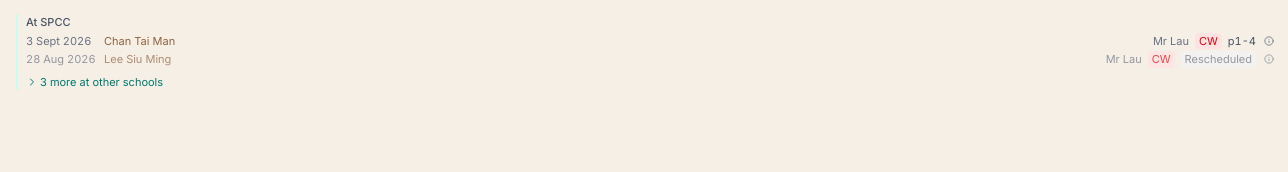
Test: the list of lessons behind a file's usage count › opens the other schools on request, leaving the school out
Click the button "3 more at other schools" at (95, 82), box [26,74,163,90]
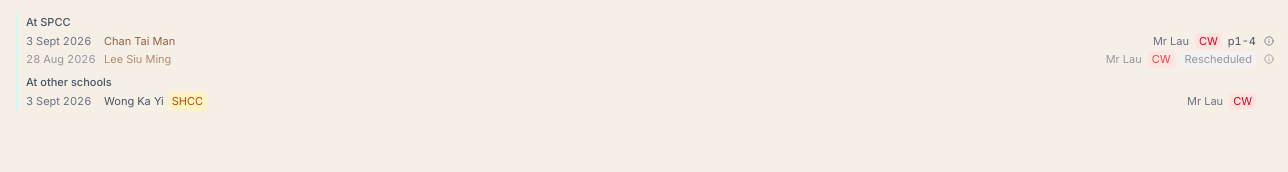
Expected: the text "At other schools" is shown, [26,74,112,88]
Expected: the text "Wong Ka Yi" is shown, [104,93,164,110]
